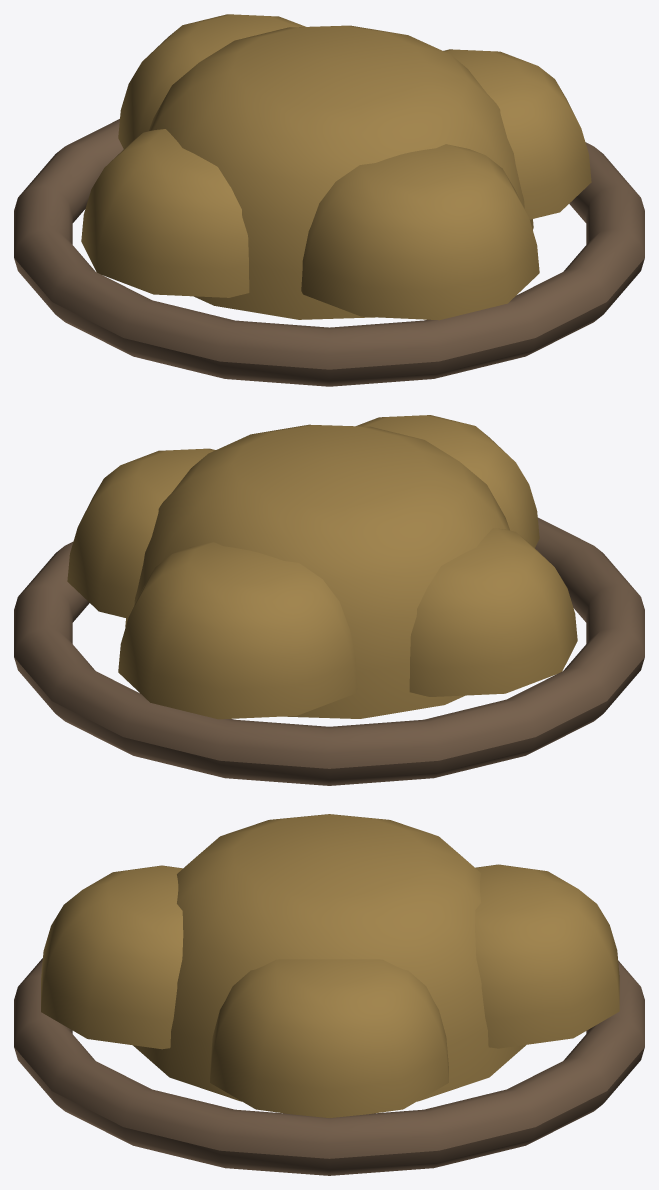
Rendered from pao_de_queijo.obj.
3 views of the same model, one above another, from view 1: azimuth 30°, elevation 25°; view 2: azimuth 150°, elevation 25°; view 3: azimuth 270°, elevation 25° (orthographic).
Visible parts, largest first — view 1: pao_de_queijo; view 2: pao_de_queijo; view 3: pao_de_queijo.
Part boxes in pixels (x1,y1,x2,y2): pao_de_queijo: (14, 14, 644, 386); pao_de_queijo: (14, 415, 644, 785); pao_de_queijo: (14, 814, 644, 1175).
Bounding box in the file's own units: 1.94 × 0.67 × 1.91.
